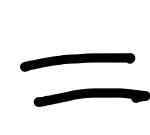eqv: (20, 53, 150, 107)
